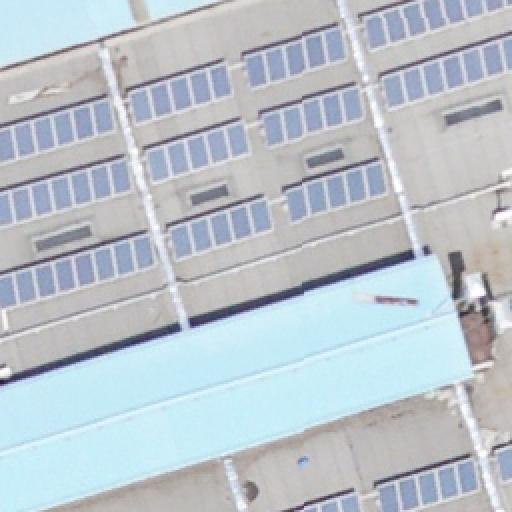solar-panel: (0, 231, 160, 313), (377, 31, 511, 113), (1, 156, 135, 232), (0, 94, 116, 166), (360, 1, 512, 55), (142, 117, 254, 187), (126, 57, 238, 127), (168, 194, 276, 262), (282, 158, 390, 226), (260, 83, 364, 149), (245, 23, 347, 89), (376, 456, 484, 512), (278, 486, 362, 512), (492, 442, 512, 486)
